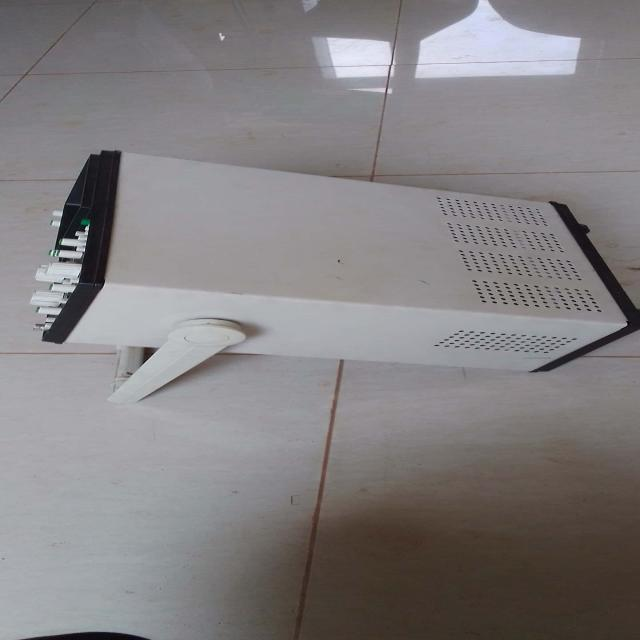Cathode Ray Oscilloscope: (15, 146, 640, 396)
